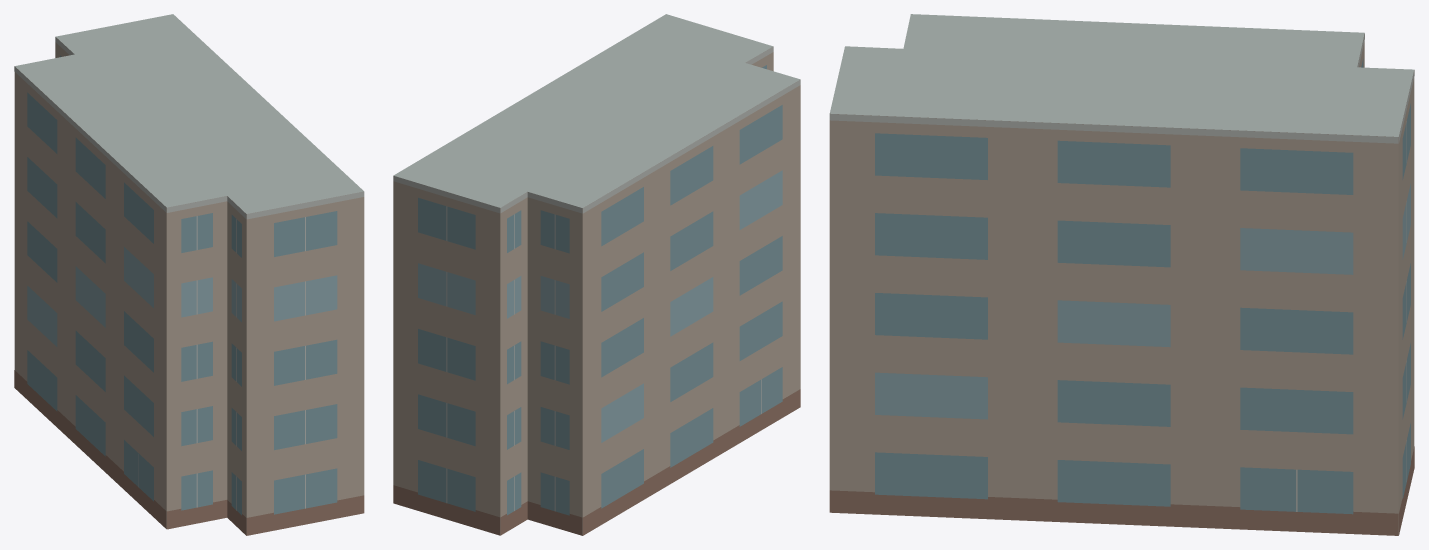
File: survey-upis-32669482.glb
3 renders of one model, left to right at view 1: azimuth 30°, elevation 25°; view 2: azimuth 150°, elevation 25°; view 3: azimuth 270°, elevation 25°, orthographic. The views are drawn at different scales.
Visible parts, largest first — view 1: survey-upis-32669482.tmp; view 2: survey-upis-32669482.tmp; view 3: survey-upis-32669482.tmp.
Boxes of the visible parts, x1,y1,x2,y2 form: survey-upis-32669482.tmp: [14, 14, 364, 535]; survey-upis-32669482.tmp: [393, 14, 800, 535]; survey-upis-32669482.tmp: [829, 14, 1414, 535].
Size of the model in its own units: 9.6 by 14.5 by 19.27.
